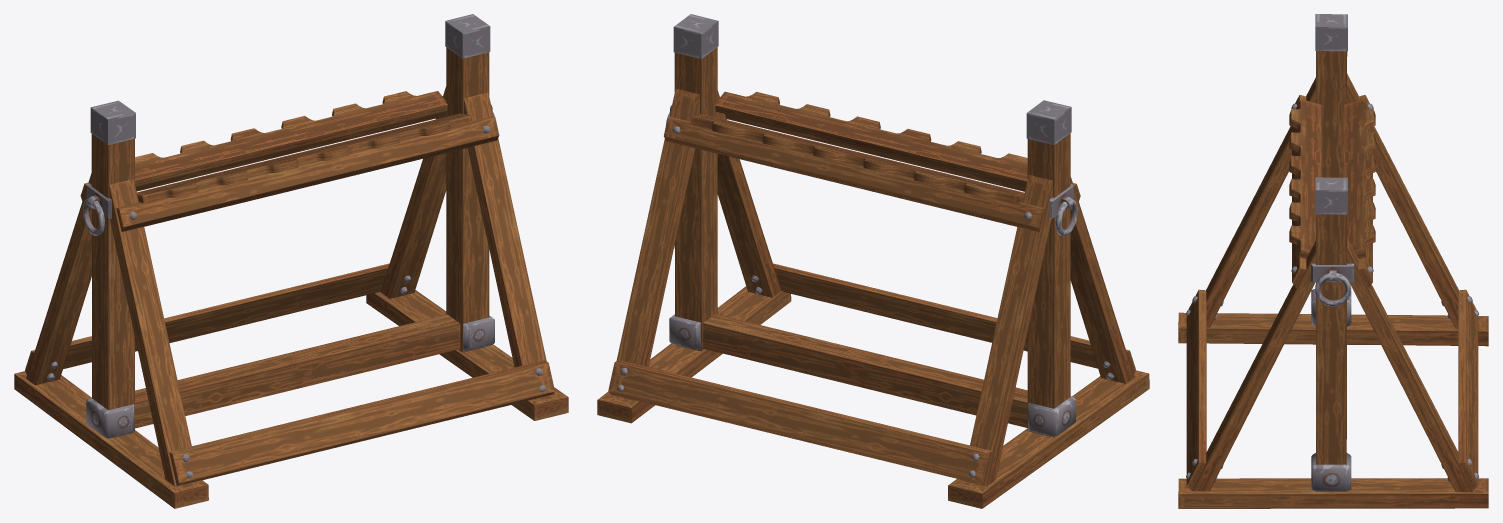
File: weaponstand.glb
3 views of the same model, side by side, from view 1: azimuth 30°, elevation 25°; view 2: azimuth 150°, elevation 25°; view 3: azimuth 270°, elevation 25° (orthographic). The views are drawn at different scales.
Visible parts, largest first — view 1: WeaponStand; view 2: WeaponStand; view 3: WeaponStand.
Part boxes in pixels (x1,y1,x2,y2): WeaponStand: (14, 14, 568, 508); WeaponStand: (597, 14, 1149, 508); WeaponStand: (1178, 14, 1488, 508).
Size of the model in its own units: 1.39 by 1.11 by 0.9831.
2 materials, 2 textured.
